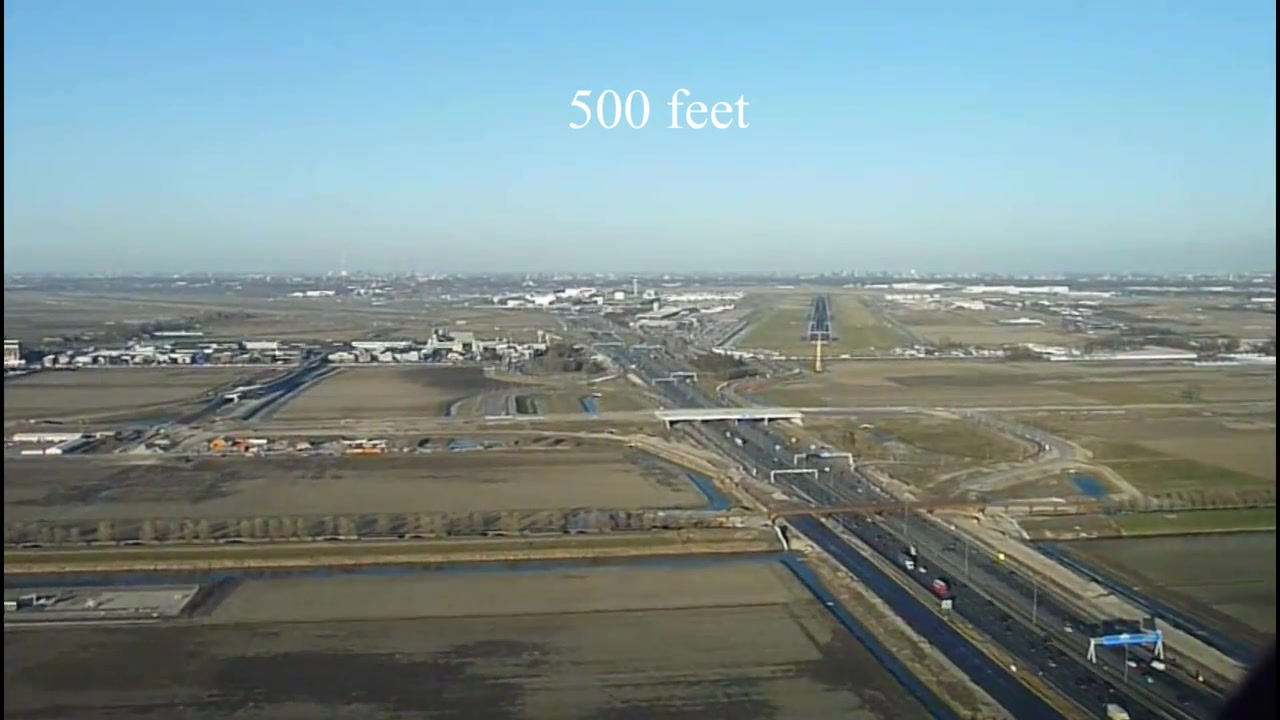runway: (807, 298, 833, 344)
